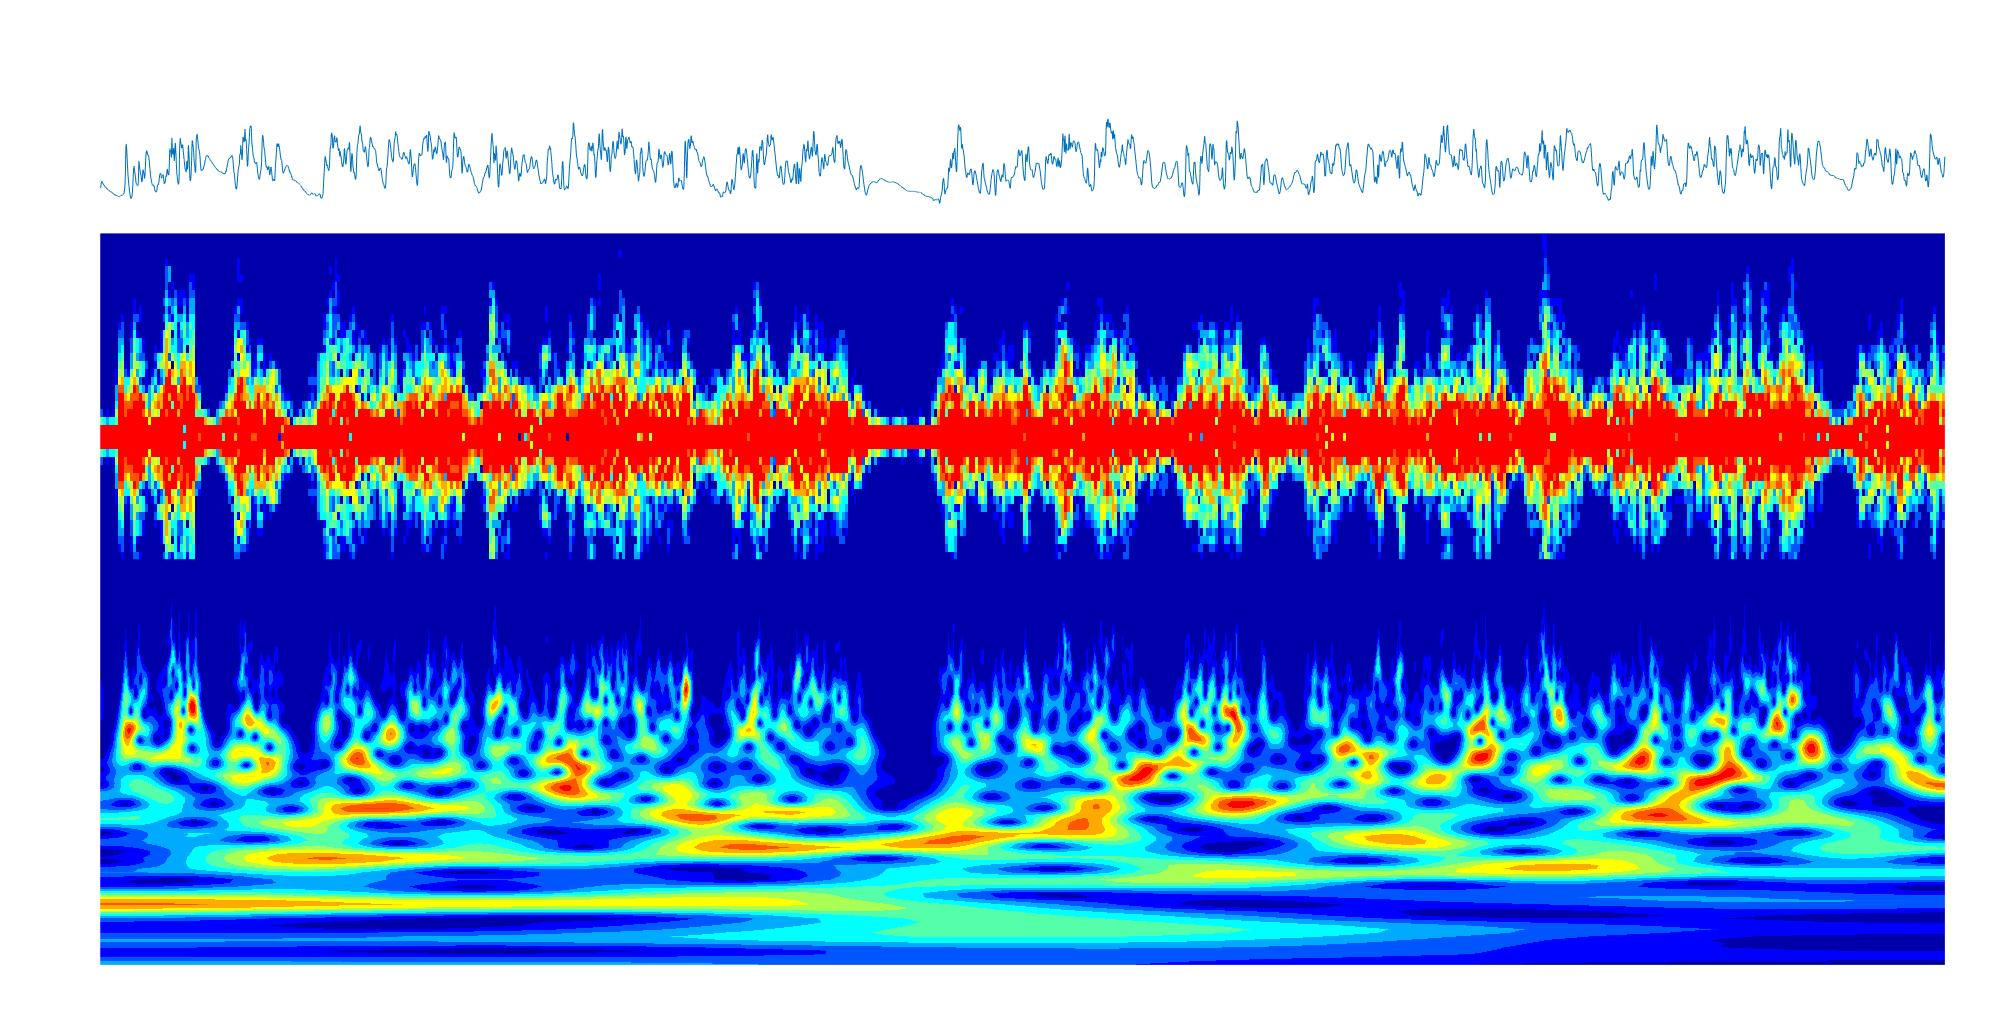TURBULENT: (1306, 233, 1569, 969), (936, 233, 1142, 964), (490, 235, 690, 965), (1618, 236, 1808, 965), (323, 235, 461, 965), (727, 233, 857, 969), (1856, 233, 1944, 965), (117, 236, 198, 964), (1181, 236, 1243, 967), (224, 235, 286, 963)
